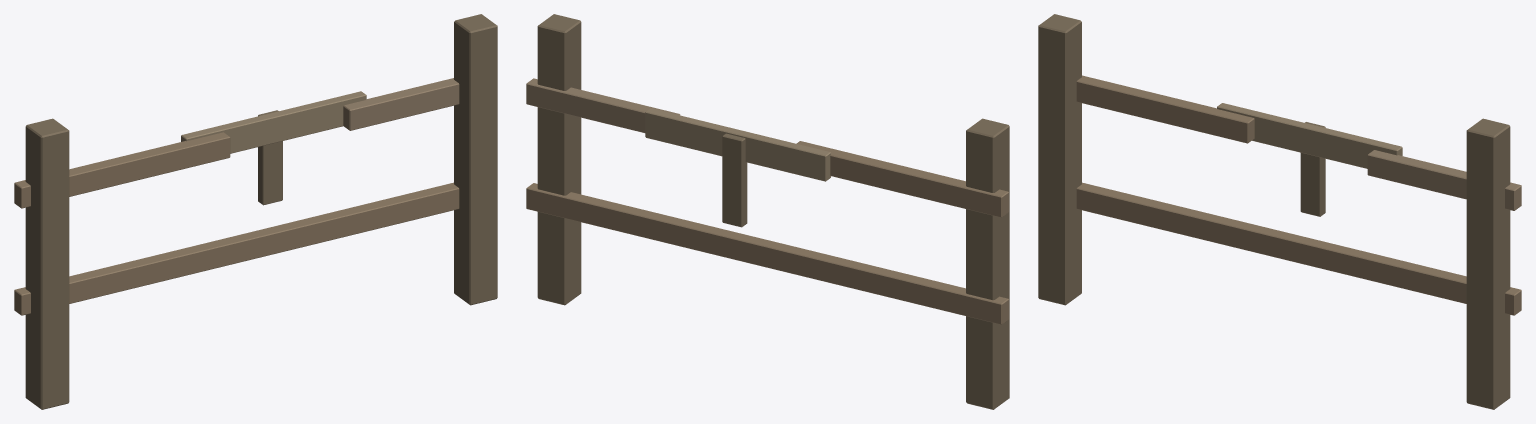
Rendered from env_fence_rail_repaired_c.glb.
The picture shows the model from 3 angles, left to right: view 1: azimuth 30°, elevation 25°; view 2: azimuth 150°, elevation 25°; view 3: azimuth 330°, elevation 25°; orthographic projection.
Parts seen in each view (by area): view 1: material_2, material_0, material_3, material_1; view 2: material_2, material_0, material_3, material_1; view 3: material_2, material_0, material_3, material_1.
Part boxes in pixels (box(x1,y1,x2,y2)): material_2: box(25, 14, 497, 409); material_0: box(14, 132, 459, 315); material_3: box(181, 91, 366, 153); material_1: box(343, 78, 459, 130); material_2: box(537, 14, 1009, 409); material_0: box(526, 141, 1008, 324); material_3: box(645, 108, 830, 181); material_1: box(526, 78, 680, 132); material_2: box(1038, 14, 1510, 409); material_0: box(1076, 75, 1521, 315); material_3: box(1217, 103, 1402, 168); material_1: box(1367, 150, 1521, 210).
Bounding box in the file's own units: 2 × 1.1 × 0.19.
